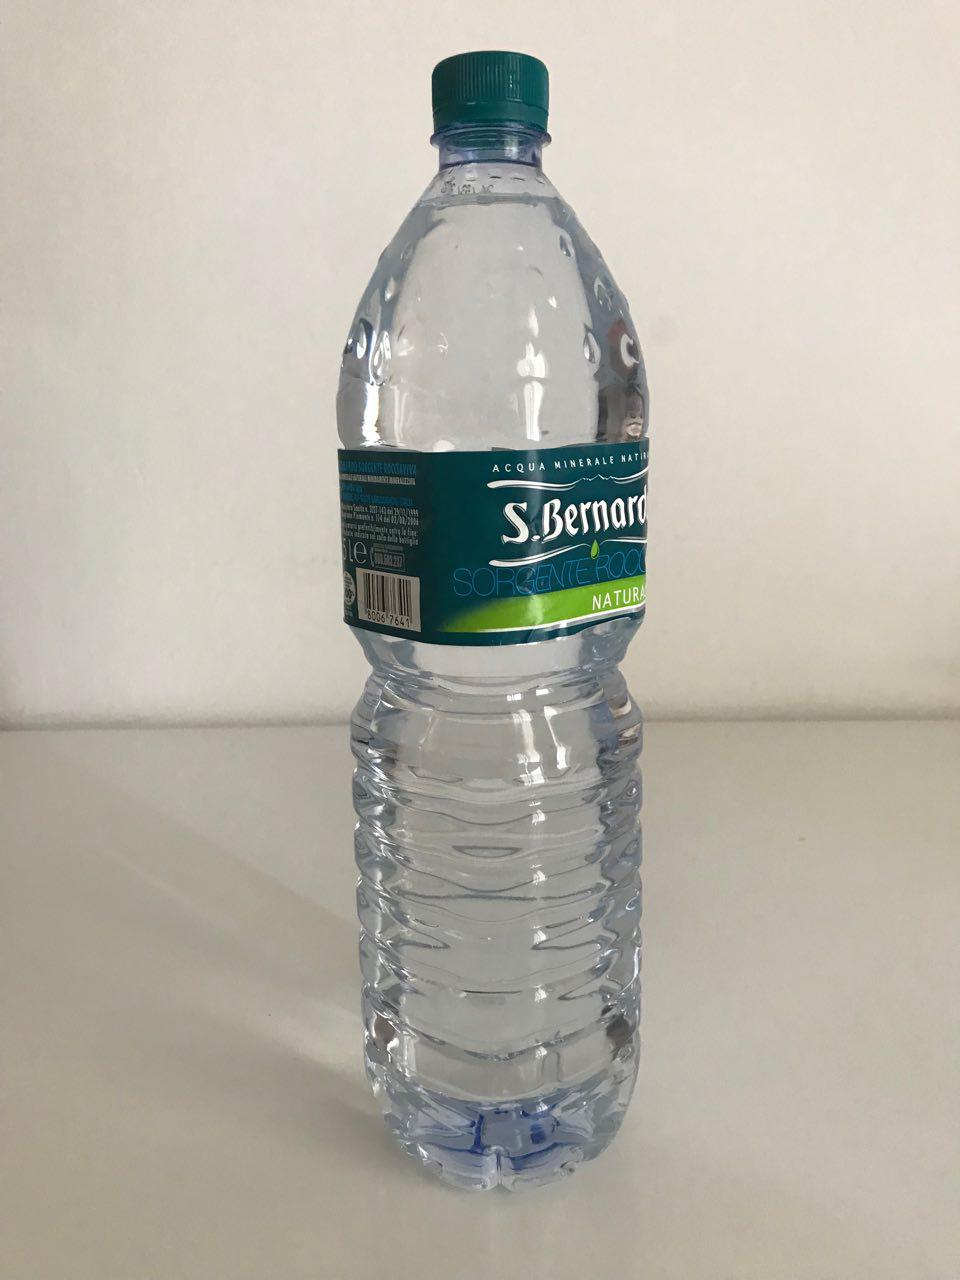san_bernardo: (333, 50, 652, 1195)
